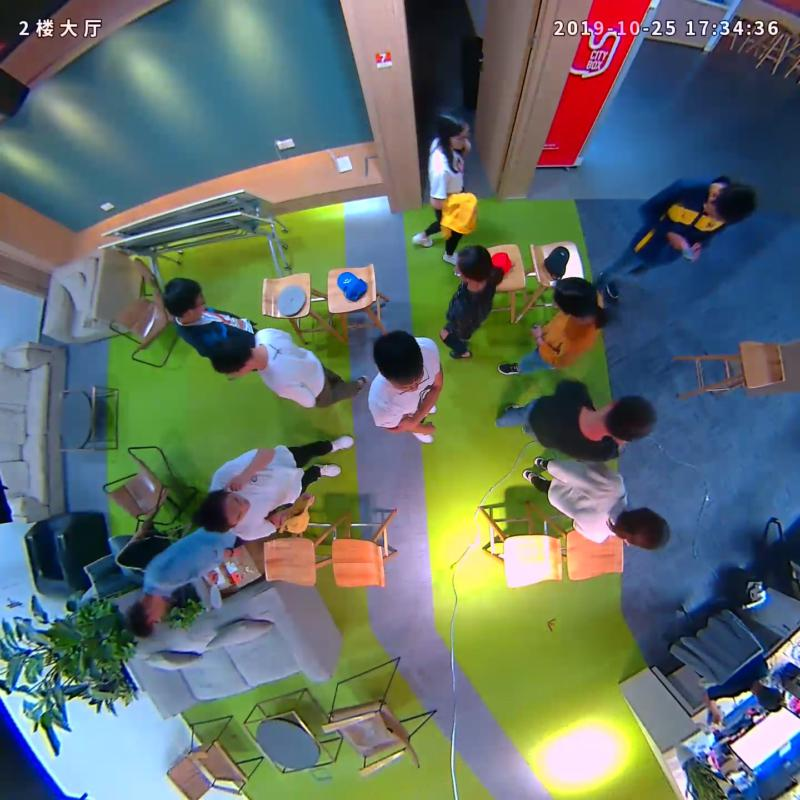head: (367, 328, 433, 394), (198, 325, 264, 380), (595, 391, 659, 446), (614, 499, 673, 555), (706, 171, 764, 226), (429, 106, 483, 163), (550, 271, 604, 324), (192, 485, 247, 537), (446, 241, 497, 294), (160, 275, 210, 325), (123, 592, 166, 640)
